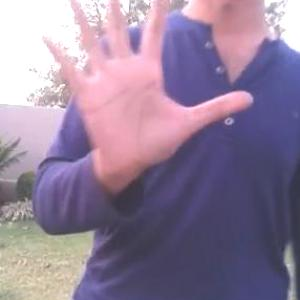follow_hand: (35, 0, 255, 185)
